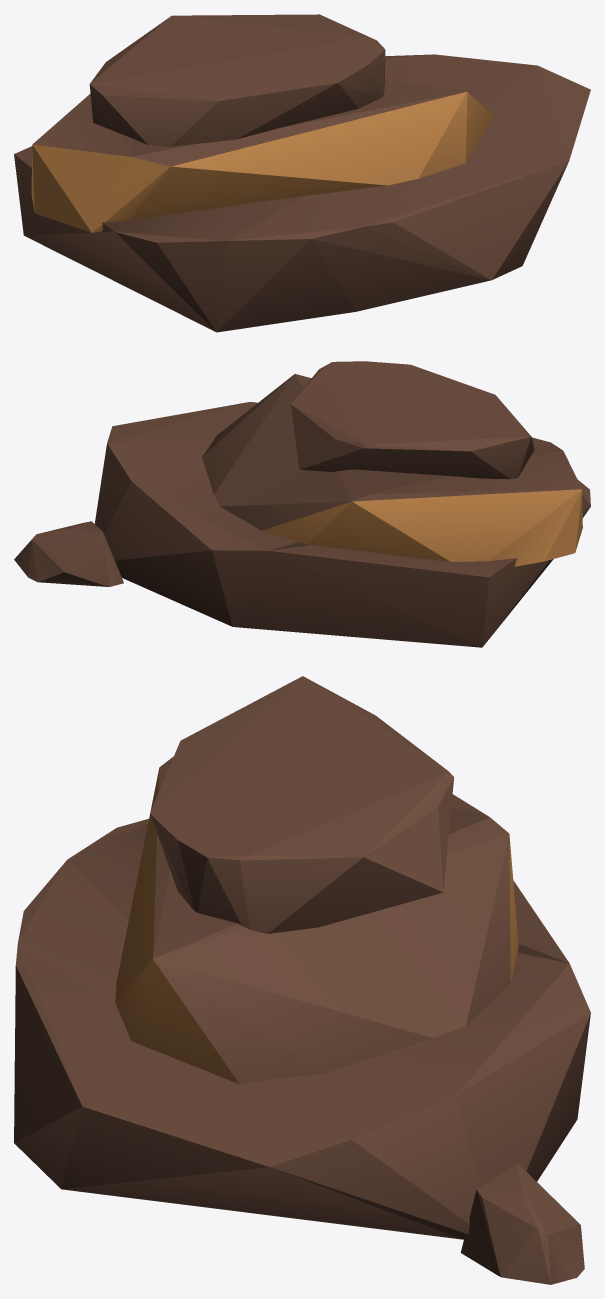
Rendered from rock_d.glb.
The picture shows the model from 3 angles, top to bottom: view 1: azimuth 30°, elevation 25°; view 2: azimuth 150°, elevation 25°; view 3: azimuth 270°, elevation 25°; orthographic projection. The views are drawn at different scales.
Parts seen in each view (by area): view 1: Rock; view 2: Rock; view 3: Rock.
Boxes of the visible parts, bbox=[...] form: Rock: bbox=[14, 14, 590, 332]; Rock: bbox=[14, 361, 590, 647]; Rock: bbox=[14, 676, 590, 1284].
Bounding box in the file's own units: 3.07 × 1.07 × 1.99.
